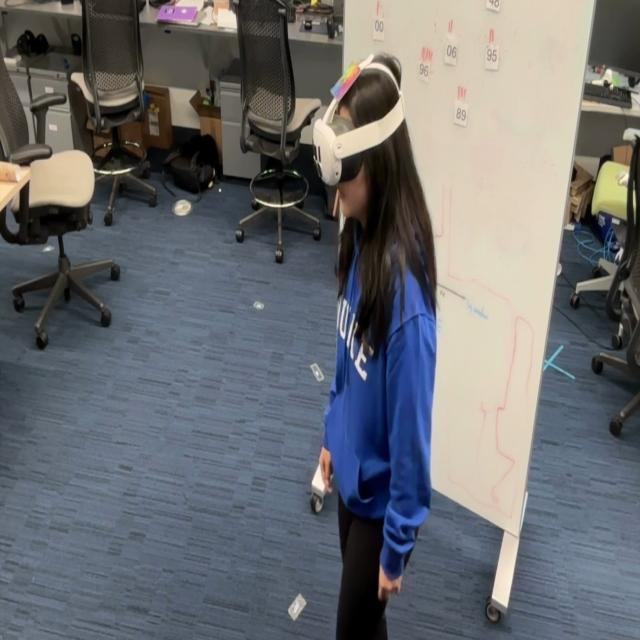Headset: (312, 61, 406, 188)
